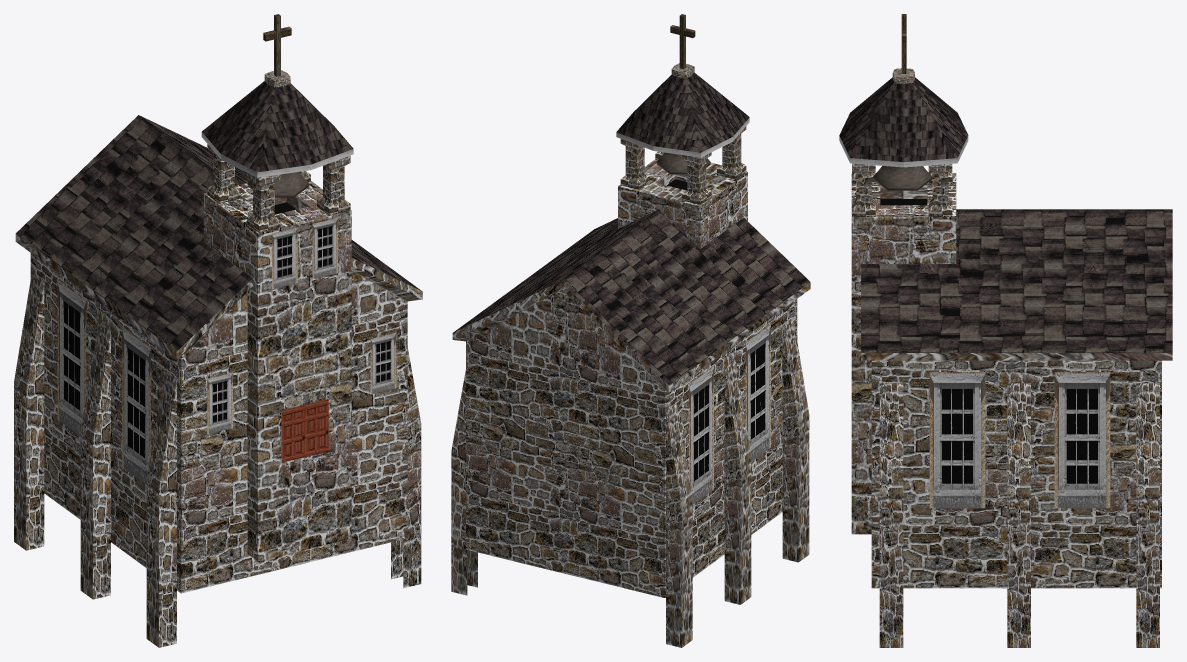
Rendered from union_church.dae.
3 views of the same model, side by side, from view 1: azimuth 30°, elevation 25°; view 2: azimuth 150°, elevation 25°; view 3: azimuth 270°, elevation 25° (orthographic). The views are drawn at different scales.
Visible parts, largest first — view 1: USAChurch; view 2: USAChurch; view 3: USAChurch.
Part boxes in pixels (left/top/right/bottom): USAChurch: left=14, top=14, right=422, bottom=647; USAChurch: left=451, top=14, right=810, bottom=647; USAChurch: left=839, top=14, right=1172, bottom=647.
Size of the model in its own units: 24.7 by 28.13 by 53.17.
